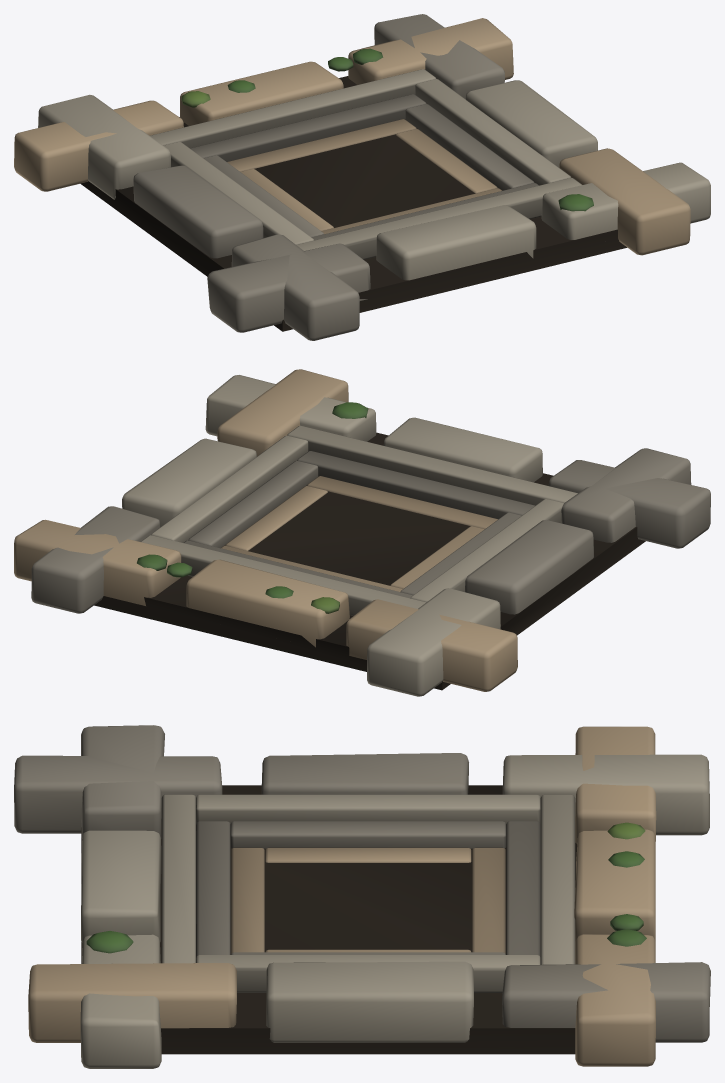
The model's file is kit_stairs.glb.
3 views of the same model, one above another, from view 1: azimuth 30°, elevation 25°; view 2: azimuth 150°, elevation 25°; view 3: azimuth 270°, elevation 25° (orthographic). The views are drawn at different scales.
Parts seen in each view (by area): view 1: kit_stairs; view 2: kit_stairs; view 3: kit_stairs.
Part boxes in pixels (x1=…): kit_stairs: x1=14, y1=14, x2=710, y2=340; kit_stairs: x1=14, y1=369, x2=710, y2=696; kit_stairs: x1=14, y1=725, x2=710, y2=1068.
Size of the model in its own units: 1.22 by 0.1462 by 1.21.
